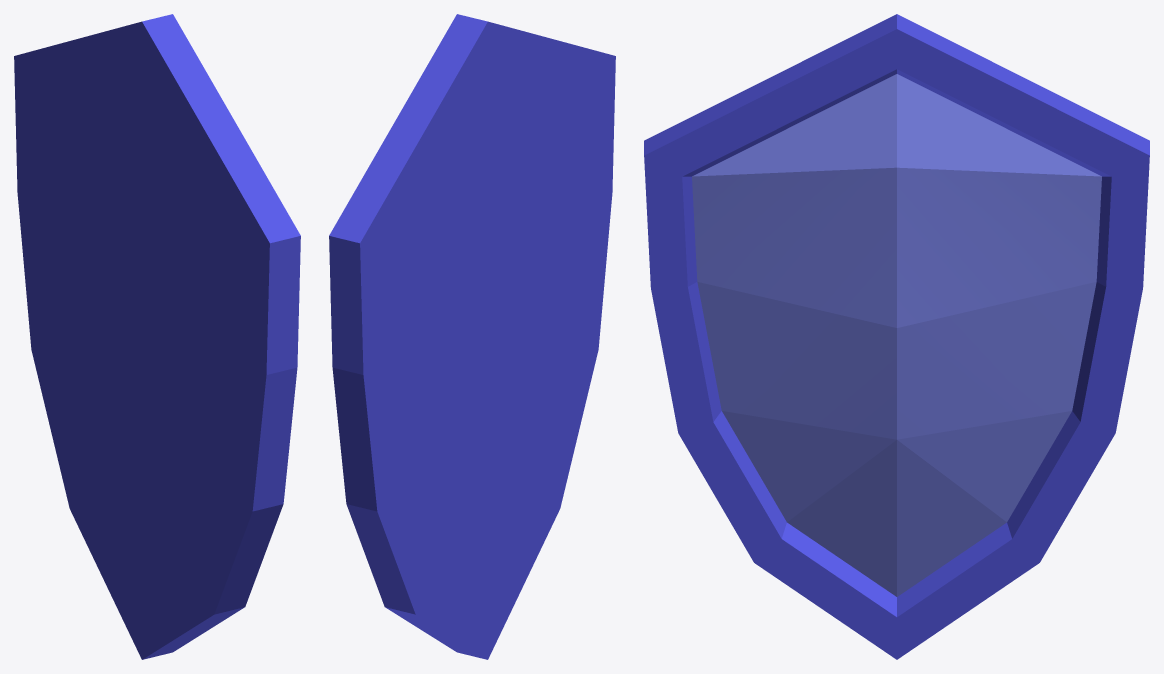
The model's file is shield.fbx.
3 views of the same model, side by side, from view 1: azimuth 30°, elevation 25°; view 2: azimuth 150°, elevation 25°; view 3: azimuth 270°, elevation 25° (orthographic).
Visible parts, largest first — view 1: shield; view 2: shield; view 3: shield.
Boxes of the visible parts, <box> form: shield: <box>14,14,300,659</box>; shield: <box>329,14,615,659</box>; shield: <box>644,14,1149,659</box>.
Bounding box in the file's own units: 25.34 × 272 × 198.
